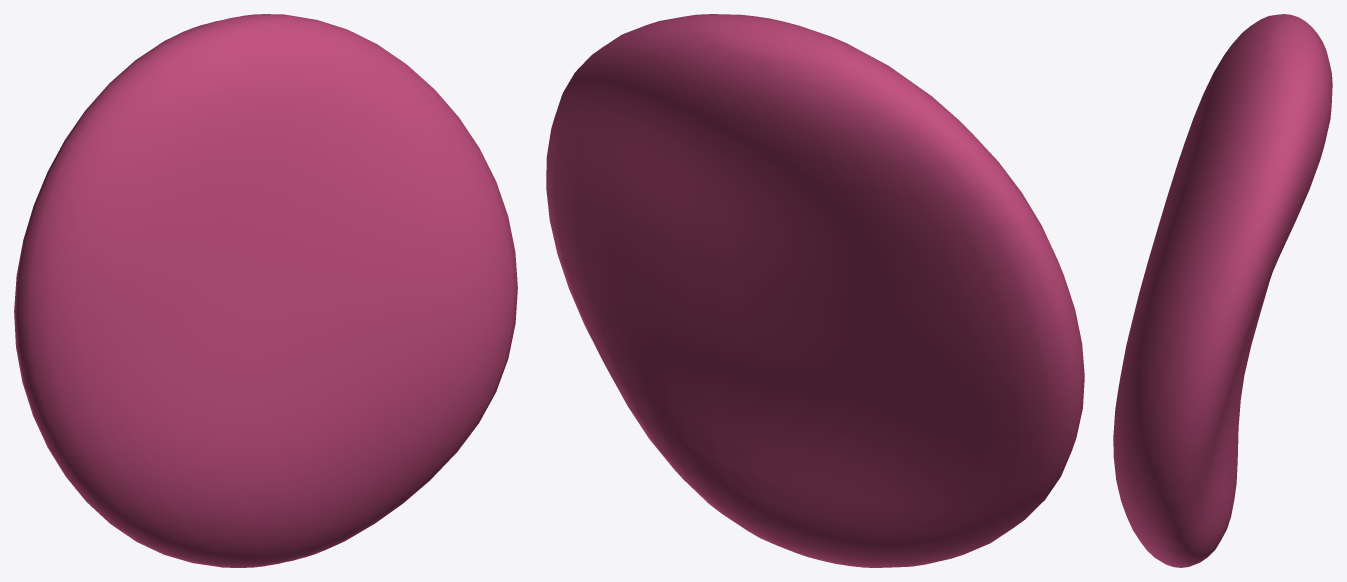
3 views of the same model, side by side, from view 1: azimuth 30°, elevation 25°; view 2: azimuth 150°, elevation 25°; view 3: azimuth 270°, elevation 25° (orthographic). The views are drawn at different scales.
Visible parts, largest first — view 1: 左侧肩峰下囊; view 2: 左侧肩峰下囊; view 3: 左侧肩峰下囊.
Part boxes in pixels (left/top/right/bottom): 左侧肩峰下囊: left=14, top=14, right=517, bottom=567; 左侧肩峰下囊: left=546, top=14, right=1084, bottom=567; 左侧肩峰下囊: left=1113, top=14, right=1332, bottom=567.
Size of the model in its own units: 0.0341 by 0.0342 by 0.0135.
